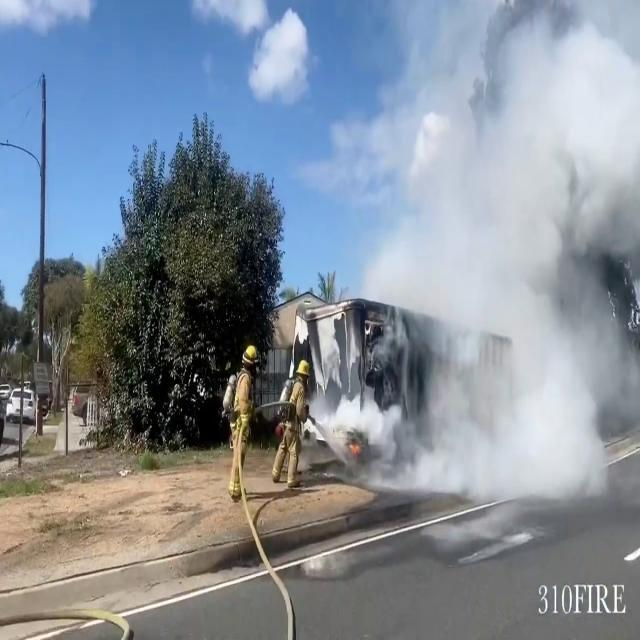Smoke: (332, 1, 640, 512)
